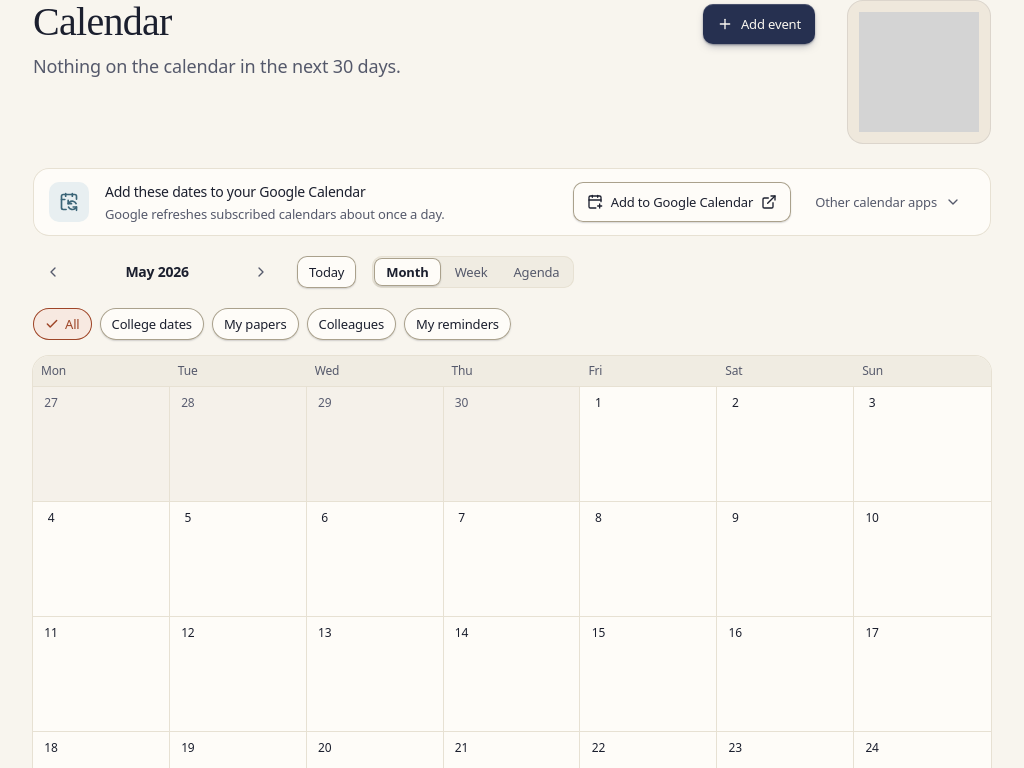
Test case: Calendar › lets faculty add only a private event: no audience choice, prefilled with the day
Click the button "14" at point(462, 633), box [450,621,474,645]
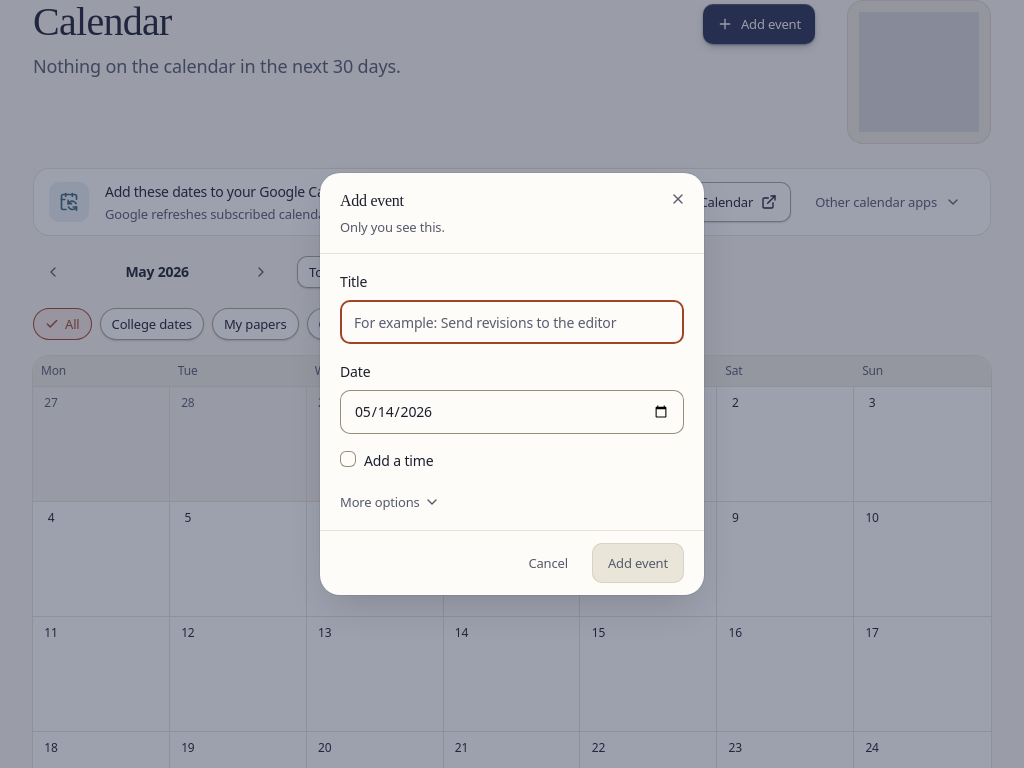
expect the text "Only you see this." is shown: met, box [340,218,445,236]
expect the date field showing "2026-05-14" is shown: met, box [340,390,684,434]
